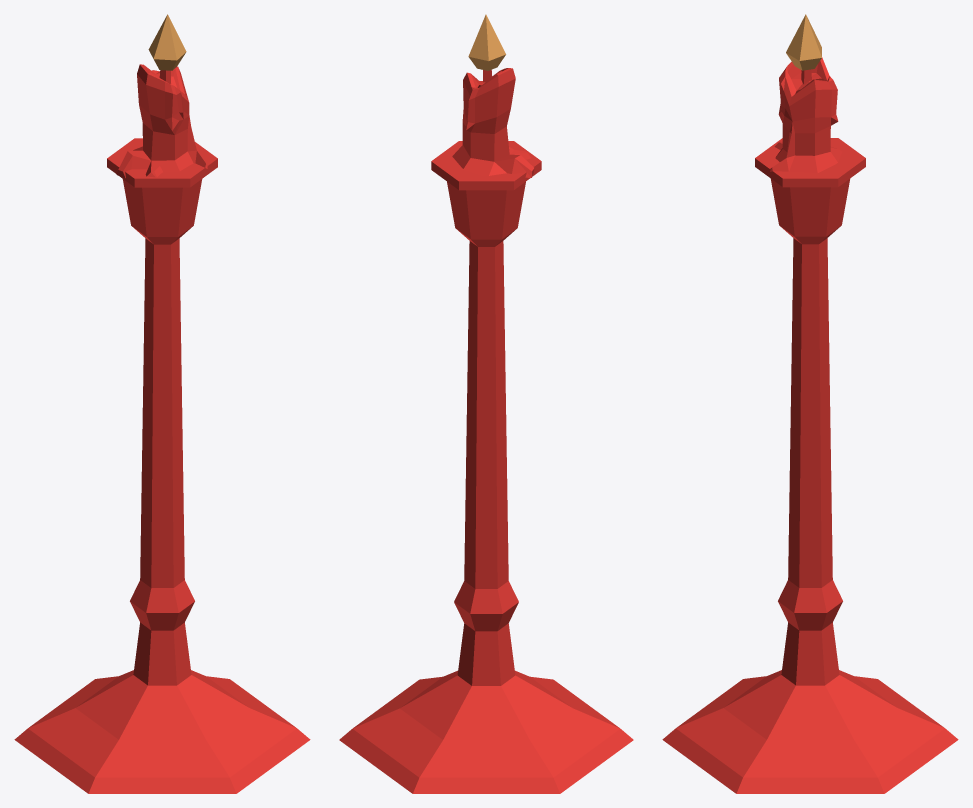
Rendered from SM_Candle_Holder_Tall_C_Lit_Christmas.fbx.
3 renders of one model, left to right at view 1: azimuth 30°, elevation 25°; view 2: azimuth 150°, elevation 25°; view 3: azimuth 270°, elevation 25°, orthographic.
Visible parts, largest first — view 1: candle-holder-tall-c-lit-christmas; view 2: candle-holder-tall-c-lit-christmas; view 3: candle-holder-tall-c-lit-christmas.
Boxes of the visible parts, x1=… form: candle-holder-tall-c-lit-christmas: x1=14, y1=14, x2=310, y2=793; candle-holder-tall-c-lit-christmas: x1=339, y1=14, x2=633, y2=793; candle-holder-tall-c-lit-christmas: x1=662, y1=14, x2=958, y2=793.
Bounding box in the file's own units: 0.1644 × 0.5138 × 0.1898.
